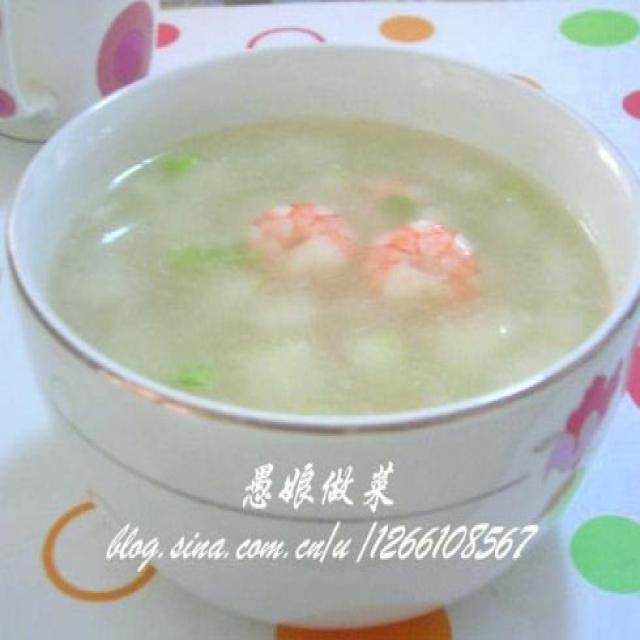汤锅炖物: (16, 51, 627, 580)
